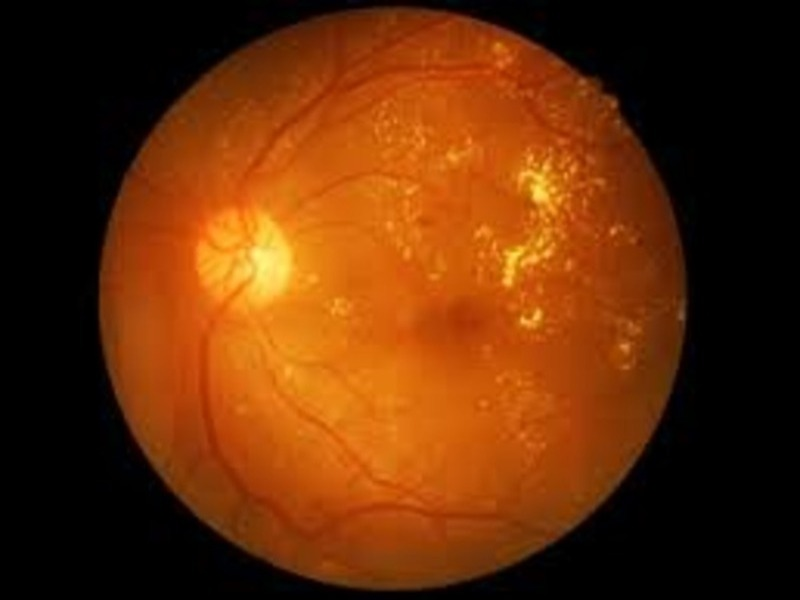Optic Cup: (248, 206, 292, 297)
Optic Disc: (195, 205, 252, 310)
